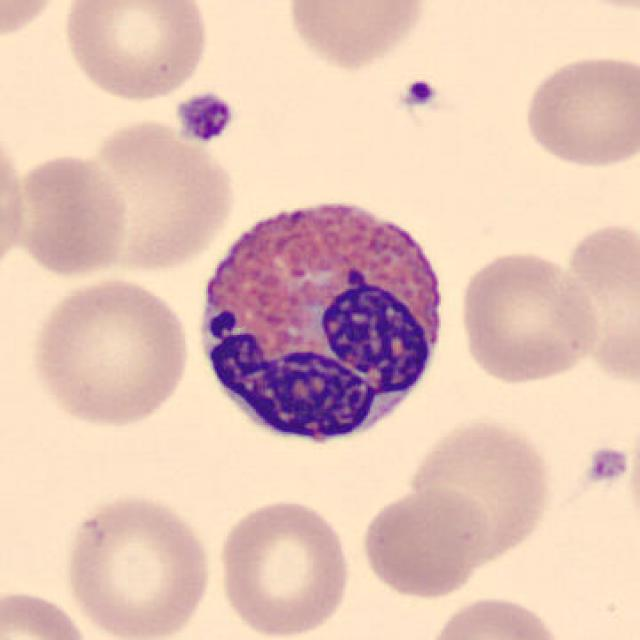Eosinophil: (181, 180, 457, 465)
Platelets: (171, 90, 238, 146), (581, 442, 633, 488), (400, 76, 441, 111)
RBC: (50, 115, 240, 276), (25, 273, 194, 430), (61, 488, 215, 640), (405, 414, 555, 568), (453, 245, 603, 386), (213, 493, 355, 640), (9, 148, 131, 280), (59, 0, 213, 104), (358, 485, 492, 601), (554, 215, 640, 386), (519, 49, 638, 171), (280, 0, 430, 72), (421, 592, 569, 640), (0, 118, 32, 284), (0, 585, 94, 640), (0, 0, 66, 44), (558, 0, 640, 14)
